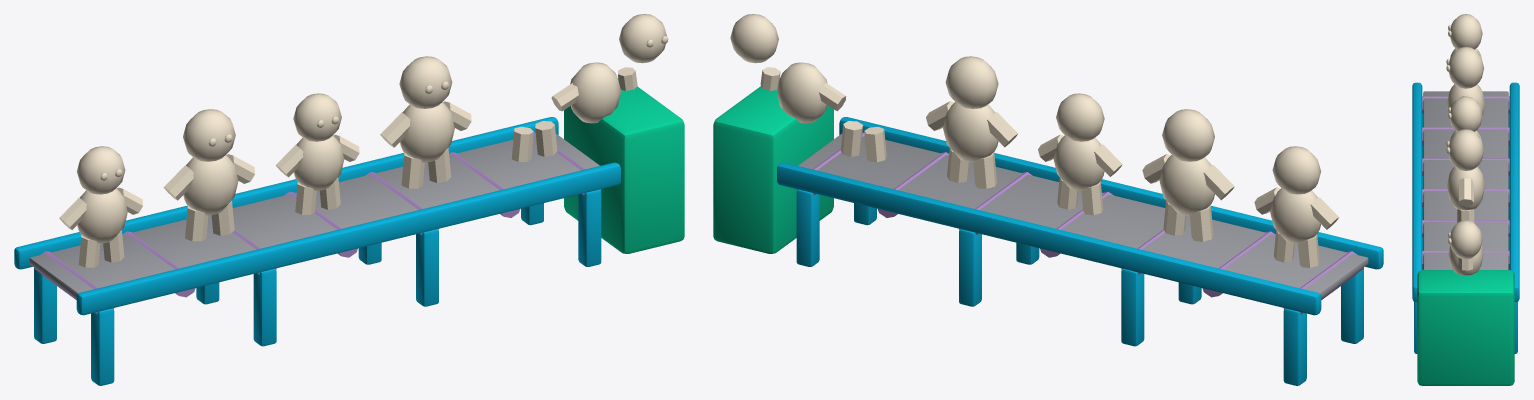
Rendered from TW_FacelessDoughRow.fbx.
3 views of the same model, side by side, from view 1: azimuth 30°, elevation 25°; view 2: azimuth 150°, elevation 25°; view 3: azimuth 270°, elevation 25° (orthographic). The views are drawn at different scales.
Visible parts, largest first — view 1: Body; view 2: Body; view 3: Body.
Part boxes in pixels (x1,y1,x2,y2): Body: (14,14,684,385); Body: (713,14,1383,385); Body: (1412,14,1519,385).
Size of the model in its own units: 6.85 by 2.3 by 1.32.
